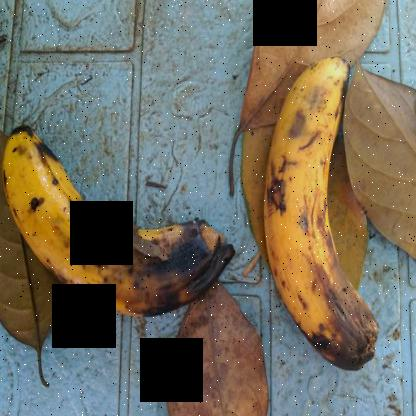overripe: (254, 47, 378, 268), (3, 118, 116, 322)
rotten: (94, 209, 244, 333), (287, 255, 402, 402)
